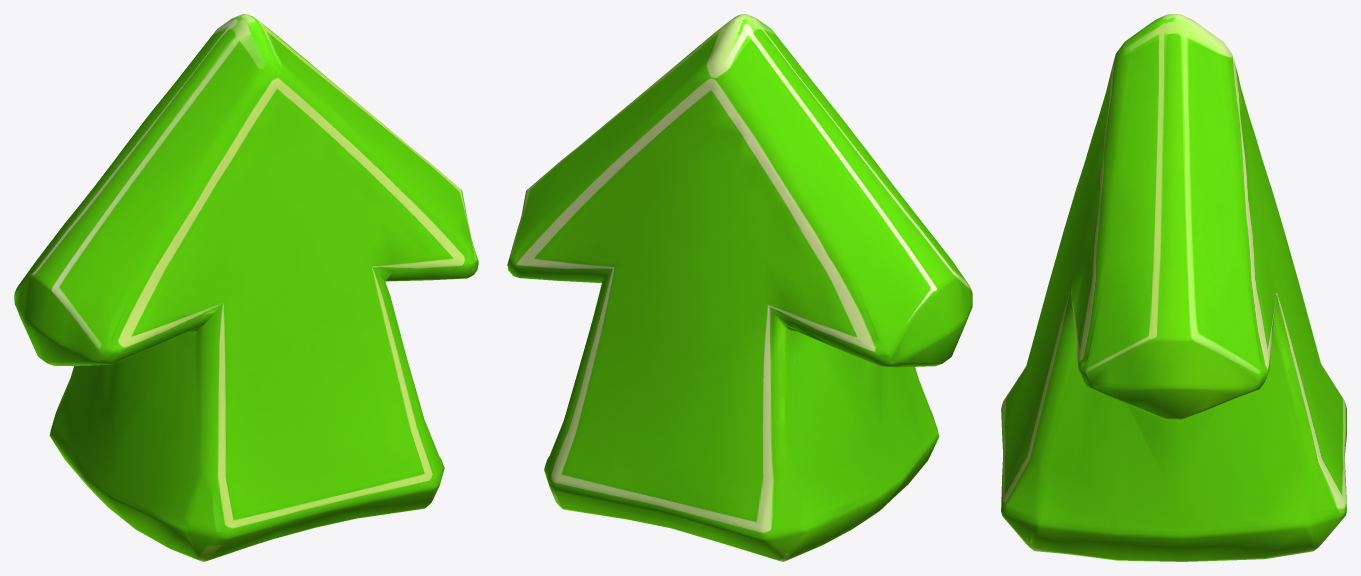
File: Meshy_AI_Neon_Green_Upward_Arr_0503105332_texture.fbx
3 views of the same model, side by side, from view 1: azimuth 30°, elevation 25°; view 2: azimuth 150°, elevation 25°; view 3: azimuth 270°, elevation 25° (orthographic). The views are drawn at different scales.
Parts seen in each view (by area): view 1: Mesh_0; view 2: Mesh_0; view 3: Mesh_0.
Boxes of the visible parts, x1,y1,x2,y2 form: Mesh_0: [14, 14, 478, 561]; Mesh_0: [507, 14, 972, 561]; Mesh_0: [1001, 14, 1346, 561].
Bounding box in the file's own units: 180 × 191 × 123.
1 material, 1 textured.
